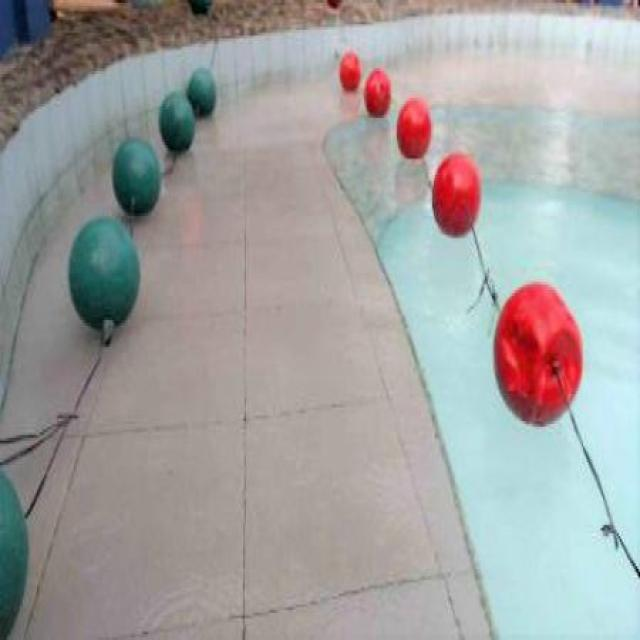buoy: (492, 283, 582, 428), (66, 214, 140, 328), (430, 151, 480, 237), (110, 135, 160, 215), (396, 96, 432, 156), (158, 92, 193, 148), (187, 68, 215, 118), (365, 65, 392, 116), (338, 50, 360, 91)
